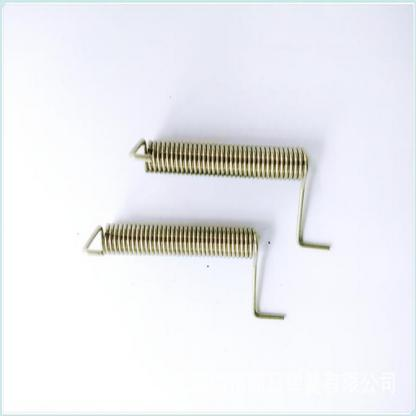FOD: (128, 133, 333, 251), (81, 221, 286, 322)
